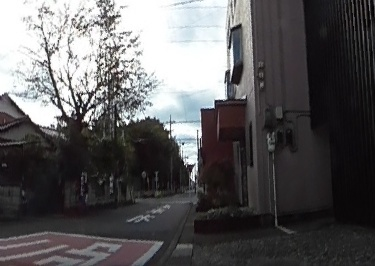person: (77, 174, 90, 212)
